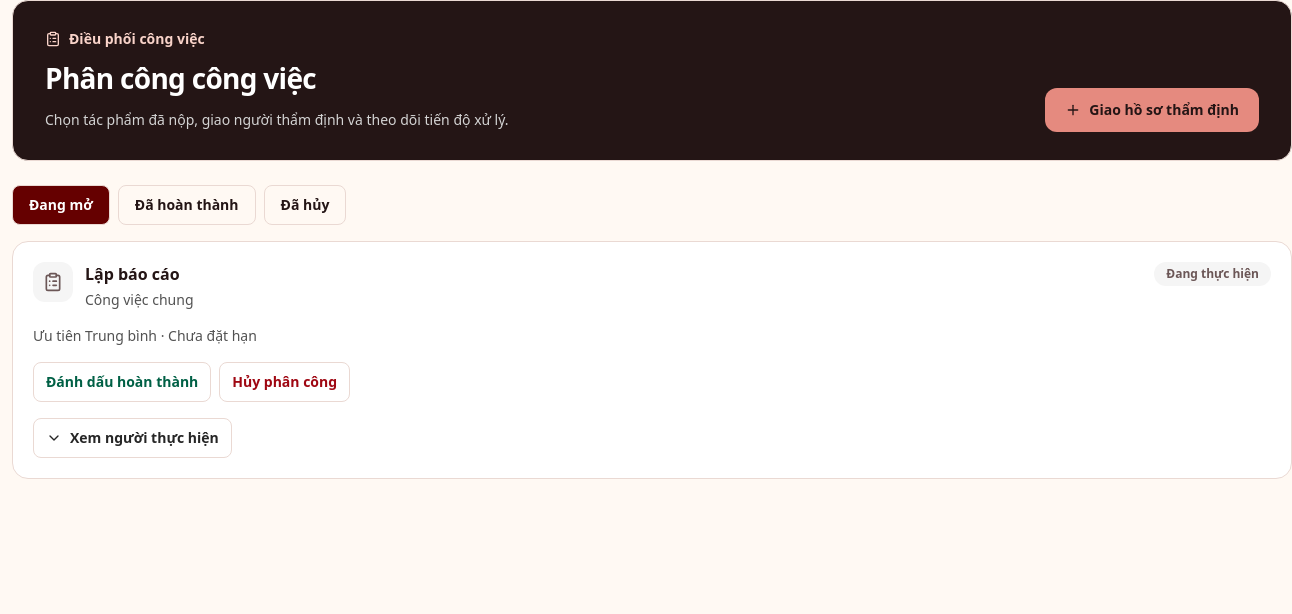
it: WorkAllocationWorkspace › closes active work and moves it out of the open queue
Click the button "Đánh dấu hoàn thành".
click(122, 382)  # box [33,362,211,402]
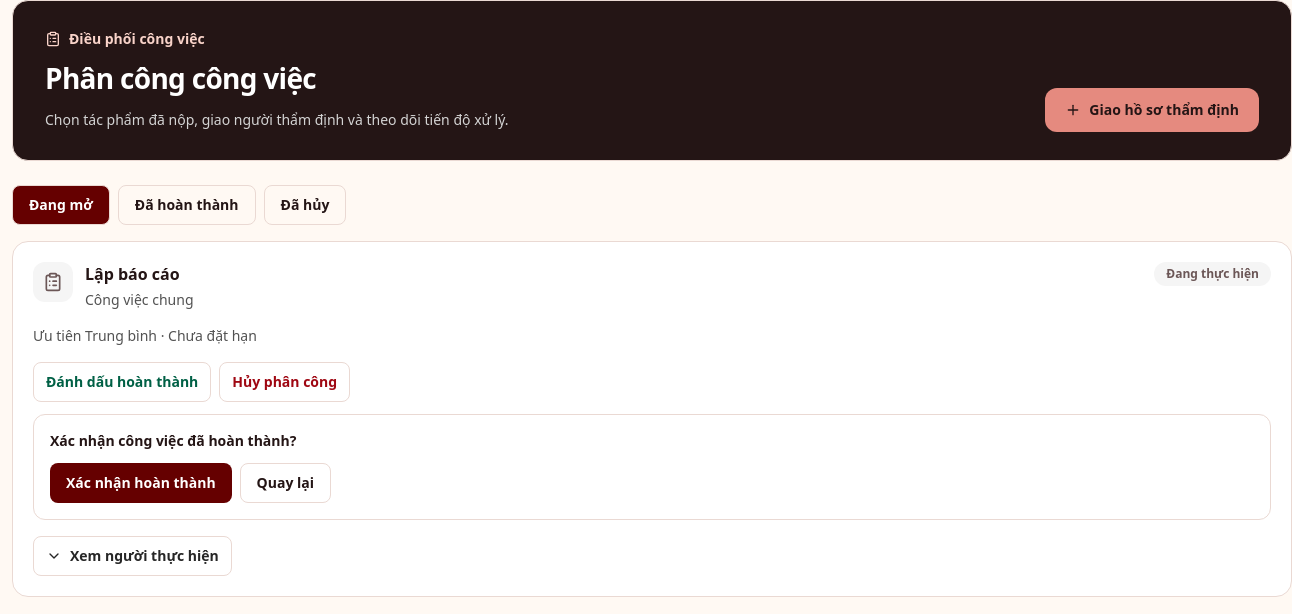
Click the button "Xác nhận hoàn thành".
click(141, 483)  # box [50,463,232,503]
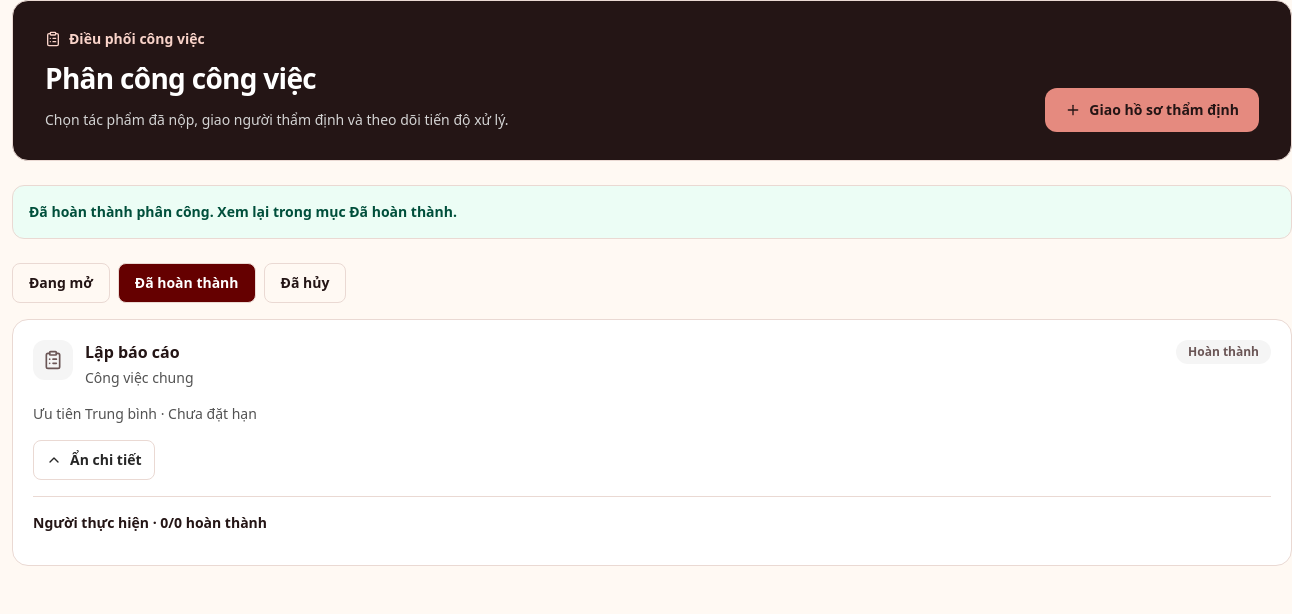
Check: the text "Hoàn thành" is shown, box [1176,340,1271,364]
Check: the button "Đánh dấu hoàn thành" is gone
